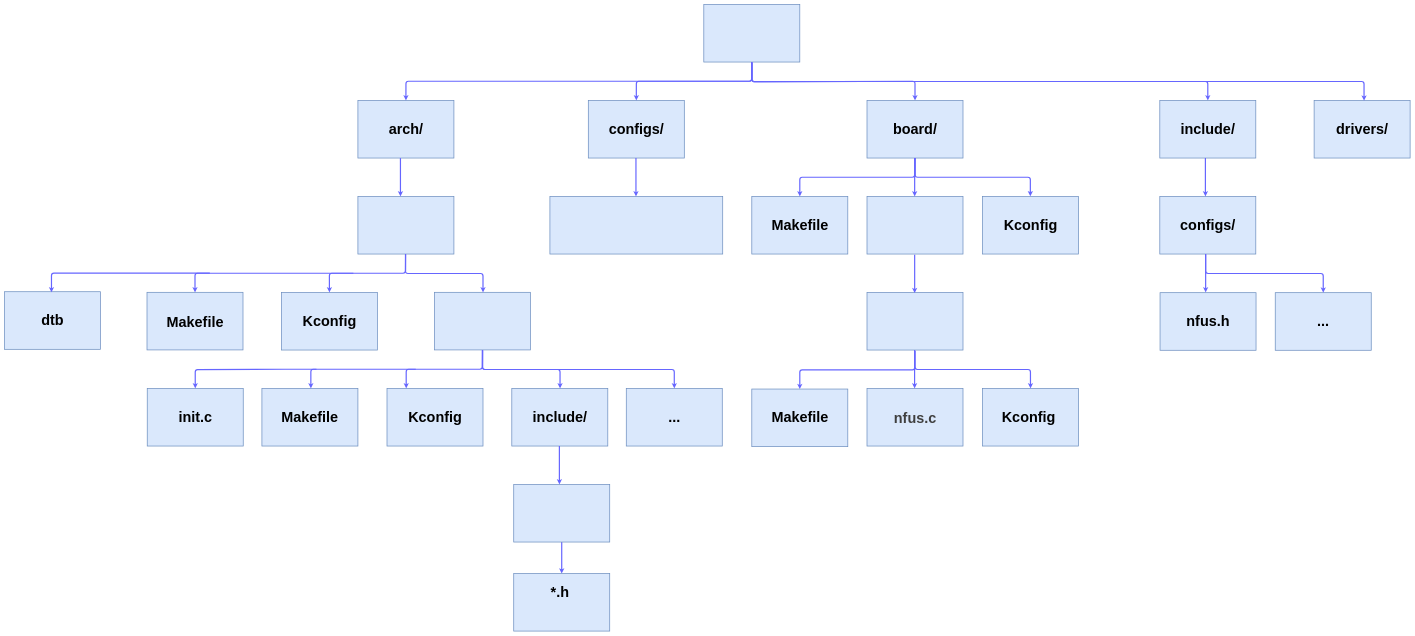
The diagram is 1415 pixels wide and 636 high, and some of its shapes have lost their labels. The shapes that lost their labels are listed below. From the top down, each one's centre as x and y in pixels, then its label:
At (751,33): "uboot/".
At (405,225): "arm/".
At (636,225): "nfus_4_defconfig".
At (915,225): "ngxxfusfus/".
At (482,321): "mach-nf283x/".
At (915,321): "nfus/".
At (561,513): "mach/".
